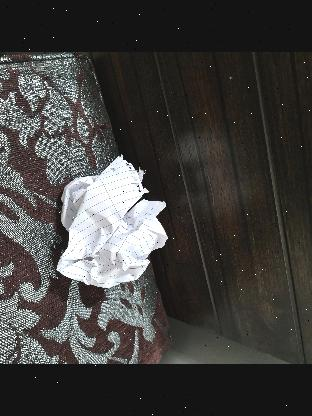Others: (50, 148, 164, 288)
